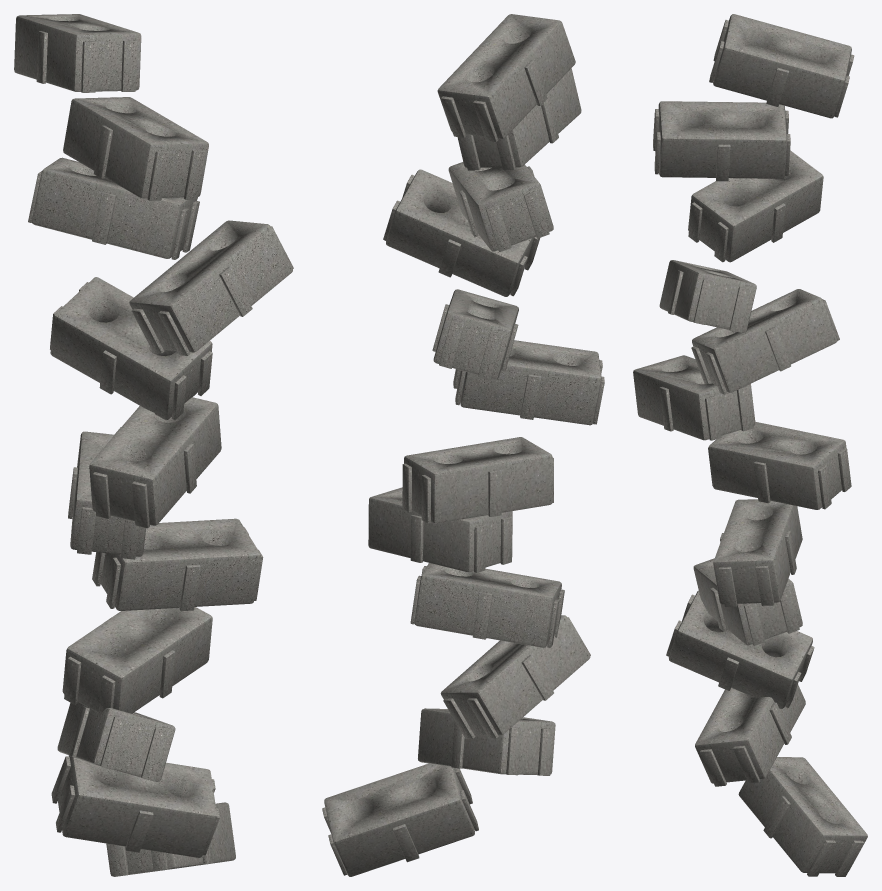
File: PAV-BLQ-004_anim.glb
3 views of the same model, side by side, from view 1: azimuth 30°, elevation 25°; view 2: azimuth 150°, elevation 25°; view 3: azimuth 270°, elevation 25° (orthographic). The views are drawn at different scales.
Visible parts, largest first — view 1: PAV-BLQ-004_anim8, PAV-BLQ-004_anim1, PAV-BLQ-004_anim4, PAV-BLQ-004_anim7, PAV-BLQ-004_anim3, PAV-BLQ-004_anim6, PAV-BLQ-004_anim10, PAV-BLQ-004_anim9, PAV-BLQ-004_anim11, PAV-BLQ-004_anim2, PAV-BLQ-004_anim5, PAV-BLQ-004_anim0; view 2: PAV-BLQ-004_anim0, PAV-BLQ-004_anim11, PAV-BLQ-004_anim5, PAV-BLQ-004_anim3, PAV-BLQ-004_anim2, PAV-BLQ-004_anim8, PAV-BLQ-004_anim6, PAV-BLQ-004_anim4, PAV-BLQ-004_anim1, PAV-BLQ-004_anim9, PAV-BLQ-004_anim7, PAV-BLQ-004_anim10; view 3: PAV-BLQ-004_anim10, PAV-BLQ-004_anim11, PAV-BLQ-004_anim5, PAV-BLQ-004_anim0, PAV-BLQ-004_anim9, PAV-BLQ-004_anim7, PAV-BLQ-004_anim2, PAV-BLQ-004_anim4, PAV-BLQ-004_anim1, PAV-BLQ-004_anim6, PAV-BLQ-004_anim8, PAV-BLQ-004_anim3.
Part boxes in pixels (x1,y1,x2,y2): PAV-BLQ-004_anim8: (129,220,293,355); PAV-BLQ-004_anim1: (51,756,219,857); PAV-BLQ-004_anim4: (92,518,263,611); PAV-BLQ-004_anim7: (50,277,212,420); PAV-BLQ-004_anim3: (62,607,212,717); PAV-BLQ-004_anim6: (89,397,221,528); PAV-BLQ-004_anim10: (63,97,208,200); PAV-BLQ-004_anim9: (28,157,199,259); PAV-BLQ-004_anim11: (14,14,141,92); PAV-BLQ-004_anim2: (57,702,175,781); PAV-BLQ-004_anim5: (68,431,149,559); PAV-BLQ-004_anim0: (106,802,235,876); PAV-BLQ-004_anim0: (322,763,478,876); PAV-BLQ-004_anim11: (437,14,575,141); PAV-BLQ-004_anim5: (402,437,553,523); PAV-BLQ-004_anim3: (410,563,564,647); PAV-BLQ-004_anim2: (440,615,590,738); PAV-BLQ-004_anim8: (383,169,539,296); PAV-BLQ-004_anim6: (453,340,604,425); PAV-BLQ-004_anim4: (368,487,512,572); PAV-BLQ-004_anim1: (418,708,555,775); PAV-BLQ-004_anim9: (448,162,553,251); PAV-BLQ-004_anim7: (432,289,518,379); PAV-BLQ-004_anim10: (457,68,581,170); PAV-BLQ-004_anim10: (653,101,790,181); PAV-BLQ-004_anim11: (709,14,854,118); PAV-BLQ-004_anim5: (708,421,851,509); PAV-BLQ-004_anim0: (738,757,867,876); PAV-BLQ-004_anim9: (688,150,823,262); PAV-BLQ-004_anim7: (691,289,839,394); PAV-BLQ-004_anim2: (666,590,814,708); PAV-BLQ-004_anim4: (713,499,802,606); PAV-BLQ-004_anim1: (695,684,805,786); PAV-BLQ-004_anim6: (633,355,755,440); PAV-BLQ-004_anim8: (659,260,756,332); PAV-BLQ-004_anim3: (693,558,802,645).
Bounding box in the file's own units: 0.3498 × 1.38 × 0.3718.
1 material, 1 textured.
